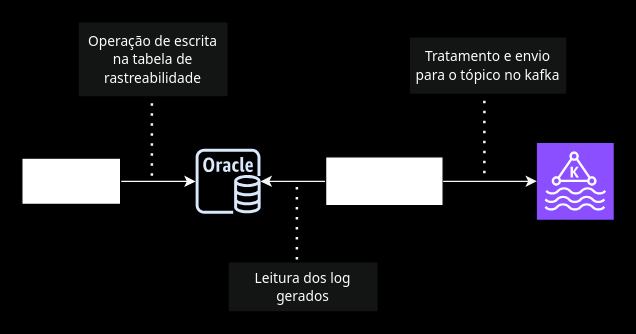
Some shapes in this 636 by 334 pixel diagram are drawn without their labels. Each missing label, with the centre of its shape:
"Apis BCPA" belongs at (x=71, y=180).
"Debezium Connect" belongs at (x=383, y=181).
